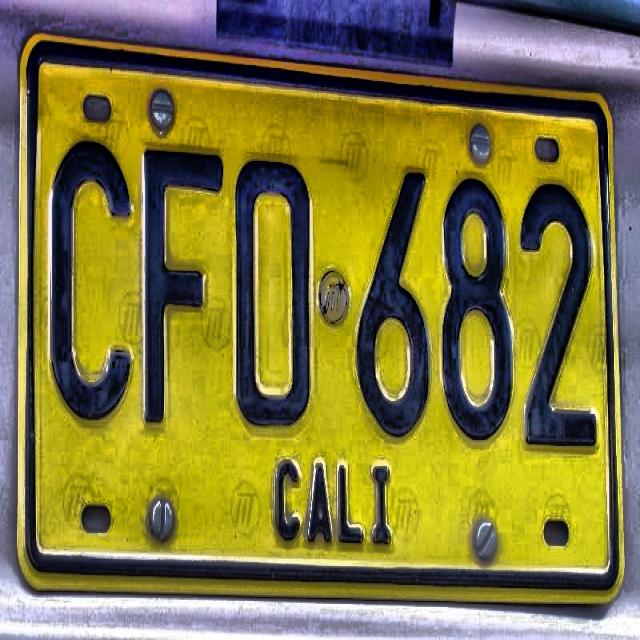plate: (16, 32, 625, 603)
